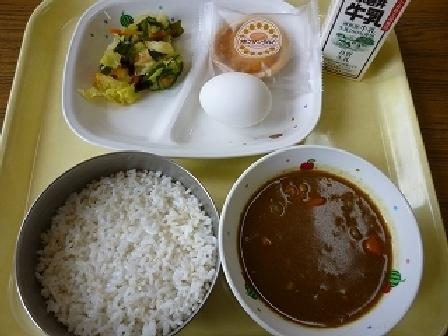Cup desserts: (196, 6, 306, 74)
Curry: (215, 154, 413, 323)
Milk: (308, 1, 413, 75)
Rice: (19, 150, 227, 324)
Salad: (93, 21, 177, 102)
boiled eggs: (192, 65, 278, 136)
